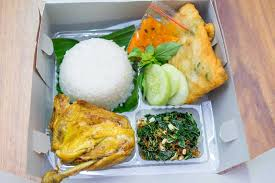ayam_geprek: (30, 99, 140, 177)
